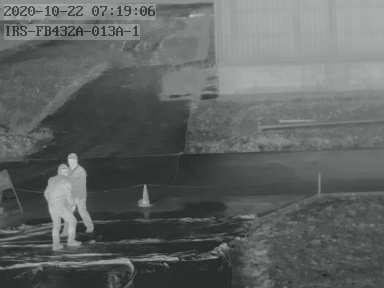person: (44, 163, 78, 249), (67, 151, 95, 234)
